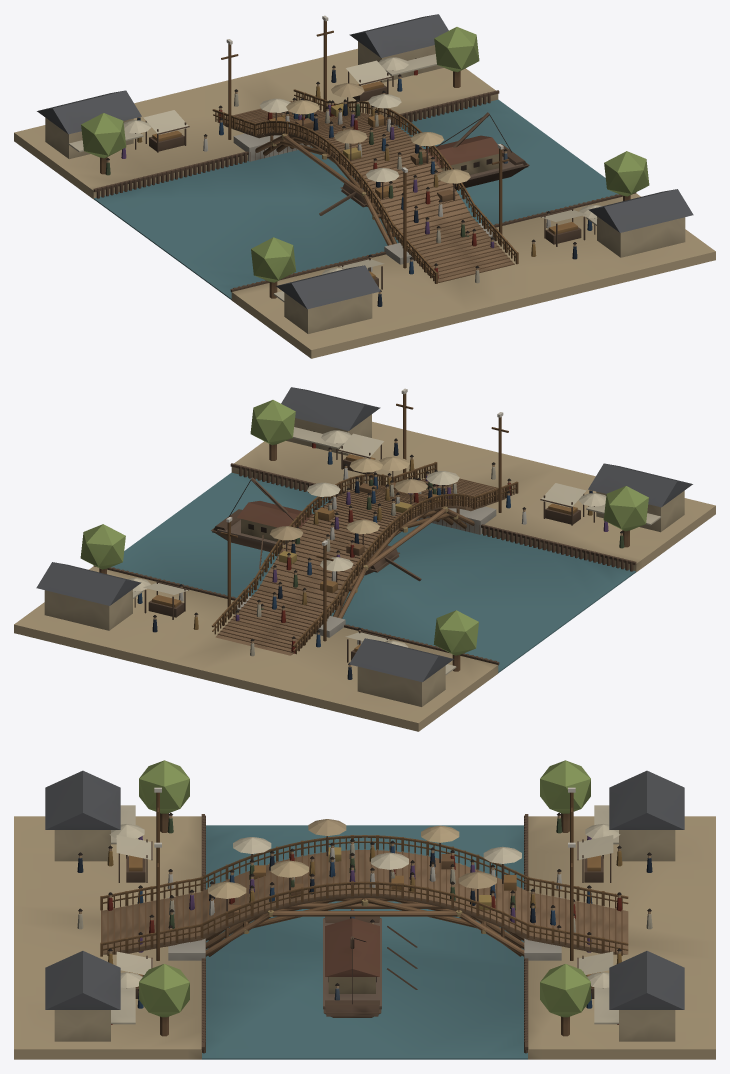
The model's file is rainbow-bridge.glb.
3 views of the same model, one above another, from view 1: azimuth 30°, elevation 25°; view 2: azimuth 150°, elevation 25°; view 3: azimuth 270°, elevation 25° (orthographic). The views are drawn at different scales.
Parts seen in each view (by area): view 1: p0_banks, p2_life, p1_deck; view 2: p0_banks, p2_life, p1_deck; view 3: p0_banks, p2_life, p1_deck.
Boxes of the visible parts, <box> form: p0_banks: <box>14,48,715,358</box>; p2_life: <box>37,14,693,333</box>; p1_deck: <box>216,101,514,282</box>; p0_banks: <box>14,421,715,731</box>; p2_life: <box>36,387,692,706</box>; p1_deck: <box>215,478,513,655</box>; p0_banks: <box>14,814,715,1059</box>; p2_life: <box>45,760,684,1041</box>; p1_deck: <box>101,849,628,956</box>.
Size of the model in its own units: 44.02 by 11.22 by 56.
